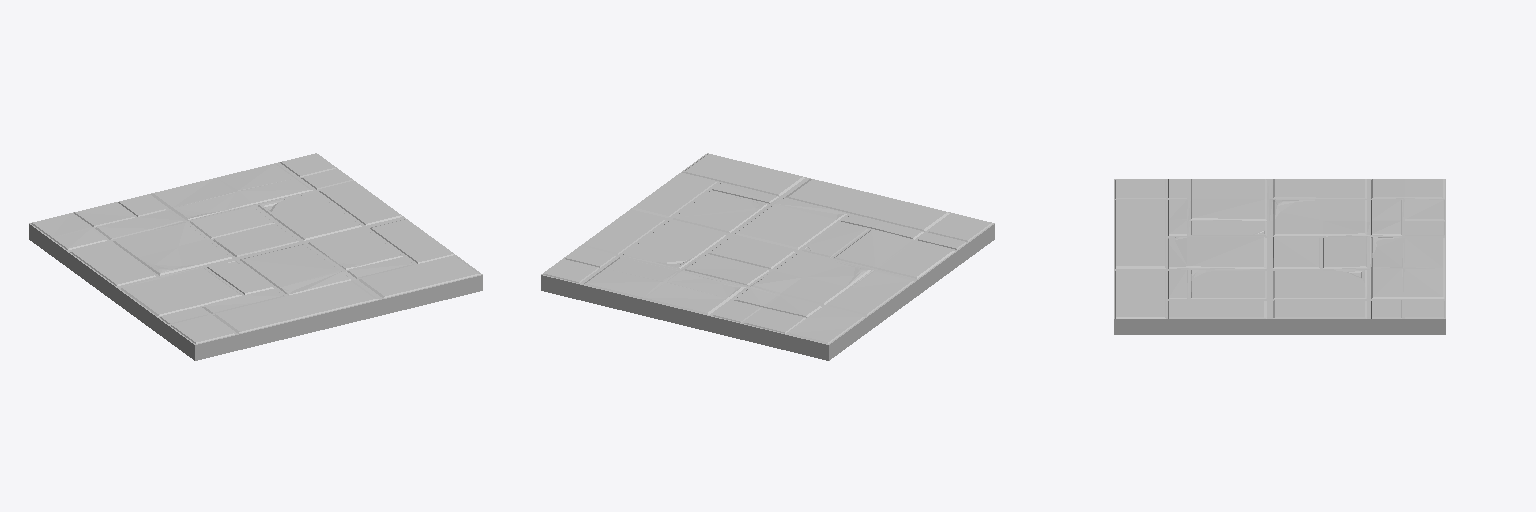
The model's file is Platform-6.obj.
The picture shows the model from 3 angles: view 1: azimuth 30°, elevation 25°; view 2: azimuth 150°, elevation 25°; view 3: azimuth 270°, elevation 25°; orthographic projection.
Visible parts, largest first — view 1: Cube.002_Cube.000; view 2: Cube.002_Cube.000; view 3: Cube.002_Cube.000.
Part boxes in pixels (x1,y1,x2,y2): Cube.002_Cube.000: (29,153,482,360); Cube.002_Cube.000: (541,153,994,360); Cube.002_Cube.000: (1114,179,1445,334).
Size of the model in its own units: 7.96 by 0.4767 by 7.96.